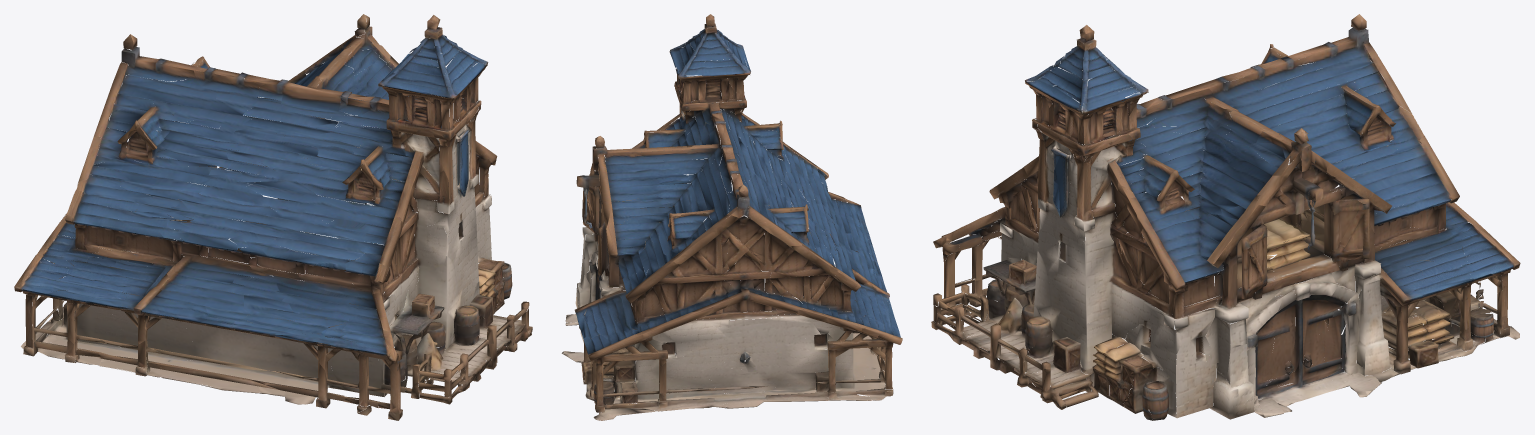
Rendered from granero-v.glb.
3 renders of one model, left to right at view 1: azimuth 30°, elevation 25°; view 2: azimuth 150°, elevation 25°; view 3: azimuth 270°, elevation 25°, orthographic. The views are drawn at different scales.
Visible parts, largest first — view 1: tripo_node_0cf8f7b1-b67b-4df8-9c6d-77ef5fa0fa1e; view 2: tripo_node_0cf8f7b1-b67b-4df8-9c6d-77ef5fa0fa1e; view 3: tripo_node_0cf8f7b1-b67b-4df8-9c6d-77ef5fa0fa1e.
Part boxes in pixels (box(x1,y1,x2,y2)): tripo_node_0cf8f7b1-b67b-4df8-9c6d-77ef5fa0fa1e: box(14, 14, 532, 420); tripo_node_0cf8f7b1-b67b-4df8-9c6d-77ef5fa0fa1e: box(561, 14, 902, 420); tripo_node_0cf8f7b1-b67b-4df8-9c6d-77ef5fa0fa1e: box(931, 14, 1520, 420).
Bounding box in the file's own units: 1.07 × 0.7863 × 1.2.
Materials: 1 (1 with a texture image).
